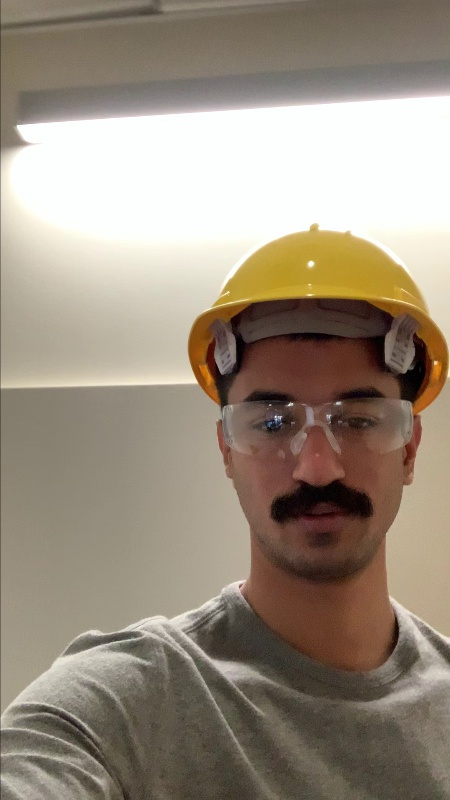glasses: (217, 390, 420, 461)
helmet: (175, 216, 450, 358)
